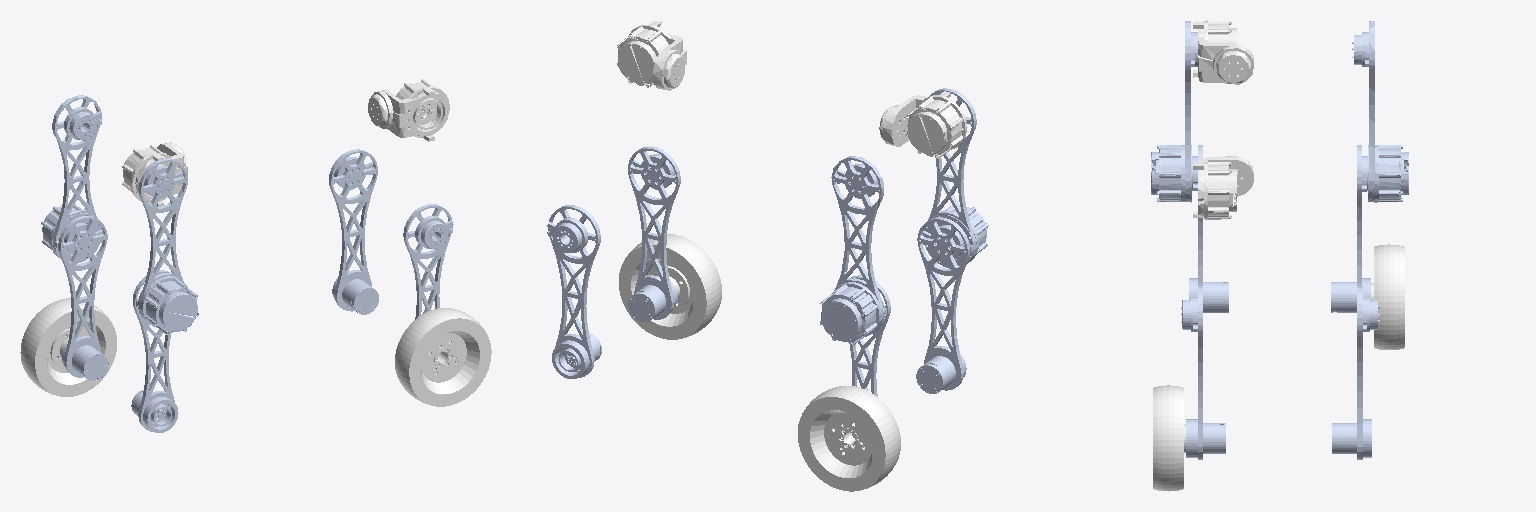
robot.urdf — wheeldog.SLDASM:
<?xml version="1.0" encoding="utf-8"?>
<!-- Inertial parameters updated from /home/hi/liu/lunzu/轮足.txt (measured SW mass props). Joint effort/velocity zeros fixed. -->
<!-- This URDF was automatically created by SolidWorks to URDF Exporter! Originally created by Stephen Brawner (brawner@gmail.com) 
     Commit Version: 1.6.0-4-g7f85cfe  Build Version: 1.6.7995.38578
     For more information, please see http://wiki.ros.org/sw_urdf_exporter -->
<robot
  name="wheeldog.SLDASM">
  <link
    name="base_link">
    <inertial>
      <origin
        xyz="-0.0007406 0.00069345 -0.04093857"
        rpy="0 0 0" />
      <mass
        value="10.08623562" />
      <inertia
        ixx="0.07619376"
        ixy="3.251e-05"
        ixz="-0.00022444"
        iyy="0.29274165"
        iyz="-0.00014066"
        izz="0.34145352" />
    </inertial>
    <visual>
      <origin
        xyz="0 0 0"
        rpy="0 0 0" />
      <geometry>
        <mesh
          filename="package://wheeldog.SLDASM/meshes/base_link.STL" />
      </geometry>
      <material
        name="">
        <color
          rgba="0.752941176470588 0.752941176470588 0.752941176470588 1" />
      </material>
    </visual>
    <collision>
      <origin
        xyz="0 0 0"
        rpy="0 0 0" />
      <geometry>
        <mesh
          filename="package://wheeldog.SLDASM/meshes/base_link.STL" />
      </geometry>
    </collision>
  </link>
  <link
    name="FL_H1_L">
    <inertial>
      <origin
        xyz="0.03618681 0.02789884 2.624e-05"
        rpy="0 0 0" />
      <mass
        value="1.65955" />
      <inertia
        ixx="0.00121543"
        ixy="-0.000496"
        ixz="-8.1e-07"
        iyy="0.00216424"
        iyz="9.7e-07"
        izz="0.00238836" />
    </inertial>
    <visual>
      <origin
        xyz="0 0 0"
        rpy="0 0 0" />
      <geometry>
        <mesh
          filename="package://wheeldog.SLDASM/meshes/FL_H1_L.STL" />
      </geometry>
      <material
        name="">
        <color
          rgba="1 1 1 1" />
      </material>
    </visual>
    <collision>
      <origin
        xyz="0 0 0"
        rpy="0 0 0" />
      <geometry>
        <mesh
          filename="package://wheeldog.SLDASM/meshes/FL_H1_L.STL" />
      </geometry>
    </collision>
  </link>
  <joint
    name="FL_H1_L_j1"
    type="revolute">
    <origin
      xyz="0.250942211638264 0.0850004065068703 -0.0349995948141676"
      rpy="0 0 0" />
    <parent
      link="base_link" />
    <child
      link="FL_H1_L" />
    <axis
      xyz="1 0 0" />
    <limit
      lower="-0.5236"
      upper="0.5236"
      effort="60"
      velocity="20" />
  </joint>
  <link
    name="FL_H2_L">
    <inertial>
      <origin
        xyz="0.0001072 0.01365002 -0.19127837"
        rpy="0 0 0" />
      <mass
        value="1.58656284" />
      <inertia
        ixx="0.01711356"
        ixy="4.75e-06"
        ixz="-6.093e-05"
        iyy="0.01693647"
        iyz="0.00258413"
        izz="0.00119761" />
    </inertial>
    <visual>
      <origin
        xyz="0 0 0"
        rpy="0 0 0" />
      <geometry>
        <mesh
          filename="package://wheeldog.SLDASM/meshes/FL_H2_L.STL" />
      </geometry>
      <material
        name="">
        <color
          rgba="0.866666666666667 0.909803921568627 1 1" />
      </material>
    </visual>
    <collision>
      <origin
        xyz="0 0 0"
        rpy="0 0 0" />
      <geometry>
        <mesh
          filename="package://wheeldog.SLDASM/meshes/FL_H2_L.STL" />
      </geometry>
    </collision>
  </link>
  <joint
    name="FL_H2_L_j2"
    type="revolute">
    <origin
      xyz="0.0530000000000002 0.0887499999999999 0"
      rpy="0 0 0" />
    <parent
      link="FL_H1_L" />
    <child
      link="FL_H2_L" />
    <axis
      xyz="0 1 0" />
    <limit
      lower="-0.7854"
      upper="0.7854"
      effort="60"
      velocity="20" />
  </joint>
  <link
    name="FL_K_L">
    <inertial>
      <origin
        xyz="0.00034449 0.00755602 -0.13356443"
        rpy="0 0 0" />
      <mass
        value="0.79338703" />
      <inertia
        ixx="0.01102442"
        ixy="-1.76e-06"
        ixz="-3.65e-05"
        iyy="0.01112229"
        iyz="-0.0006074"
        izz="0.00053818" />
    </inertial>
    <visual>
      <origin
        xyz="0 0 0"
        rpy="0 0 0" />
      <geometry>
        <mesh
          filename="package://wheeldog.SLDASM/meshes/FL_K_L.STL" />
      </geometry>
      <material
        name="">
        <color
          rgba="0.866666666666667 0.909803921568627 1 1" />
      </material>
    </visual>
    <collision>
      <origin
        xyz="0 0 0"
        rpy="0 0 0" />
      <geometry>
        <mesh
          filename="package://wheeldog.SLDASM/meshes/FL_K_L.STL" />
      </geometry>
    </collision>
  </link>
  <joint
    name="FL_K_L_j3"
    type="revolute">
    <origin
      xyz="0 -0.0329999999999998 -0.25"
      rpy="0 0 0" />
    <parent
      link="FL_H2_L" />
    <child
      link="FL_K_L" />
    <axis
      xyz="0 -1 0" />
    <limit
      lower="-2.0944"
      upper="2.0944"
      effort="60"
      velocity="20" />
  </joint>
  <link
    name="FL_W_L">
    <inertial>
      <origin
        xyz="0 -0.00390569 0"
        rpy="0 0 0" />
      <mass
        value="0.65012417" />
      <inertia
        ixx="0.00134138"
        ixy="0"
        ixz="0"
        iyy="0.00242814"
        iyz="0"
        izz="0.00134138" />
    </inertial>
    <visual>
      <origin
        xyz="0 0 0"
        rpy="0 0 0" />
      <geometry>
        <mesh
          filename="package://wheeldog.SLDASM/meshes/FL_W_L.STL" />
      </geometry>
      <material
        name="">
        <color
          rgba="1 1 1 1" />
      </material>
    </visual>
    <collision>
      <origin
        xyz="0 0 0"
        rpy="0 0 0" />
      <geometry>
        <mesh
          filename="package://wheeldog.SLDASM/meshes/FL_W_L.STL" />
      </geometry>
    </collision>
  </link>
  <joint
    name="FL_W_L_j4"
    type="continuous">
    <origin
      xyz="0 0.062 -0.25"
      rpy="0 0 0" />
    <parent
      link="FL_K_L" />
    <child
      link="FL_W_L" />
    <axis
      xyz="0 -1 0" />
    <limit effort="14" velocity="33" />
  </joint>
  <link
    name="FR_H1_L">
    <inertial>
      <origin
        xyz="0.03612386 -0.02789884 2.621e-05"
        rpy="0 0 0" />
      <mass
        value="1.65955" />
      <inertia
        ixx="0.00121543"
        ixy="0.00049646"
        ixz="-6.5e-07"
        iyy="0.00216072"
        iyz="-9.7e-07"
        izz="0.00238484" />
    </inertial>
    <visual>
      <origin
        xyz="0 0 0"
        rpy="0 0 0" />
      <geometry>
        <mesh
          filename="package://wheeldog.SLDASM/meshes/FR_H1_L.STL" />
      </geometry>
      <material
        name="">
        <color
          rgba="1 1 1 1" />
      </material>
    </visual>
    <collision>
      <origin
        xyz="0 0 0"
        rpy="0 0 0" />
      <geometry>
        <mesh
          filename="package://wheeldog.SLDASM/meshes/FR_H1_L.STL" />
      </geometry>
    </collision>
  </link>
  <joint
    name="FR_H1_L_j1"
    type="revolute">
    <origin
      xyz="0.250942211638264 -0.0849995934931297 -0.034999594814168"
      rpy="0 0 0" />
    <parent
      link="base_link" />
    <child
      link="FR_H1_L" />
    <axis
      xyz="1 0 0" />
    <limit
      lower="-0.5236"
      upper="0.5236"
      effort="60"
      velocity="20" />
  </joint>
  <link
    name="FR_H2_L">
    <inertial>
      <origin
        xyz="-0.0002839 -0.01365002 -0.19123181"
        rpy="0 0 0" />
      <mass
        value="1.58656284" />
      <inertia
        ixx="0.01710472"
        ixy="8.99e-06"
        ixz="3.927e-05"
        iyy="0.01692768"
        iyz="-0.00258276"
        izz="0.00119766" />
    </inertial>
    <visual>
      <origin
        xyz="0 0 0"
        rpy="0 0 0" />
      <geometry>
        <mesh
          filename="package://wheeldog.SLDASM/meshes/FR_H2_L.STL" />
      </geometry>
      <material
        name="">
        <color
          rgba="0.866666666666667 0.909803921568627 1 1" />
      </material>
    </visual>
    <collision>
      <origin
        xyz="0 0 0"
        rpy="0 0 0" />
      <geometry>
        <mesh
          filename="package://wheeldog.SLDASM/meshes/FR_H2_L.STL" />
      </geometry>
    </collision>
  </link>
  <joint
    name="FR_H2_L_j2"
    type="revolute">
    <origin
      xyz="0.053 -0.08875 0"
      rpy="0 0 0" />
    <parent
      link="FR_H1_L" />
    <child
      link="FR_H2_L" />
    <axis
      xyz="0 -1 0" />
    <limit
      lower="-0.7854"
      upper="0.7854"
      effort="60"
      velocity="20" />
  </joint>
  <link
    name="FR_K_L">
    <inertial>
      <origin
        xyz="0.00034455 -0.00936192 -0.13356438"
        rpy="0 0 0" />
      <mass
        value="0.79338703" />
      <inertia
        ixx="0.0109974"
        ixy="1.27e-06"
        ixz="-3.643e-05"
        iyy="0.01112229"
        iyz="0.00044057"
        izz="0.0005117" />
    </inertial>
    <visual>
      <origin
        xyz="0 0 0"
        rpy="0 0 0" />
      <geometry>
        <mesh
          filename="package://wheeldog.SLDASM/meshes/FR_K_L.STL" />
      </geometry>
      <material
        name="">
        <color
          rgba="0.866666666666667 0.909803921568627 1 1" />
      </material>
    </visual>
    <collision>
      <origin
        xyz="0 0 0"
        rpy="0 0 0" />
      <geometry>
        <mesh
          filename="package://wheeldog.SLDASM/meshes/FR_K_L.STL" />
      </geometry>
    </collision>
  </link>
  <joint
    name="FR_K_L_j3"
    type="revolute">
    <origin
      xyz="0 0.0329999999999995 -0.25"
      rpy="0 0 0" />
    <parent
      link="FR_H2_L" />
    <child
      link="FR_K_L" />
    <axis
      xyz="0 1 0" />
    <limit
      lower="-2.0944"
      upper="2.0944"
      effort="60"
      velocity="20" />
  </joint>
  <link
    name="FR_W_L">
    <inertial>
      <origin
        xyz="0 0.00390569 0"
        rpy="0 0 0" />
      <mass
        value="0.65012417" />
      <inertia
        ixx="0.00134138"
        ixy="0"
        ixz="0"
        iyy="0.00242814"
        iyz="0"
        izz="0.00134138" />
    </inertial>
    <visual>
      <origin
        xyz="0 0 0"
        rpy="0 0 0" />
      <geometry>
        <mesh
          filename="package://wheeldog.SLDASM/meshes/FR_W_L.STL" />
      </geometry>
      <material
        name="">
        <color
          rgba="1 1 1 1" />
      </material>
    </visual>
    <collision>
      <origin
        xyz="0 0 0"
        rpy="0 0 0" />
      <geometry>
        <mesh
          filename="package://wheeldog.SLDASM/meshes/FR_W_L.STL" />
      </geometry>
    </collision>
  </link>
  <joint
    name="FR_W_L_j4"
    type="continuous">
    <origin
      xyz="0 -0.0659999999999999 -0.25"
      rpy="0 0 0" />
    <parent
      link="FR_K_L" />
    <child
      link="FR_W_L" />
    <axis
      xyz="0 1 0" />
    <limit effort="14" velocity="33" />
  </joint>
  <link
    name="RL_H1_L">
    <inertial>
      <origin
        xyz="-0.03612386 0.02789884 2.621e-05"
        rpy="0 0 0" />
      <mass
        value="1.65955" />
      <inertia
        ixx="0.00121543"
        ixy="0.00049646"
        ixz="6.5e-07"
        iyy="0.00216072"
        iyz="9.7e-07"
        izz="0.00238484" />
    </inertial>
    <visual>
      <origin
        xyz="0 0 0"
        rpy="0 0 0" />
      <geometry>
        <mesh
          filename="package://wheeldog.SLDASM/meshes/RL_H1_L.STL" />
      </geometry>
      <material
        name="">
        <color
          rgba="1 1 1 1" />
      </material>
    </visual>
    <collision>
      <origin
        xyz="0 0 0"
        rpy="0 0 0" />
      <geometry>
        <mesh
          filename="package://wheeldog.SLDASM/meshes/RL_H1_L.STL" />
      </geometry>
    </collision>
  </link>
  <joint
    name="RL_H1_L_j1"
    type="revolute">
    <origin
      xyz="-0.253057788361737 0.0850004065068702 -0.0349995948141677"
      rpy="0 0 0" />
    <parent
      link="base_link" />
    <child
      link="RL_H1_L" />
    <axis
      xyz="-1 0 0" />
    <limit
      lower="-0.5236"
      upper="0.5236"
      effort="60"
      velocity="20" />
  </joint>
  <link
    name="RL_H2_L">
    <inertial>
      <origin
        xyz="0.000146 0.01365002 -0.19123181"
        rpy="0 0 0" />
      <mass
        value="1.58656284" />
      <inertia
        ixx="0.01710472"
        ixy="2.5e-06"
        ixz="-5.213e-05"
        iyy="0.01692778"
        iyz="0.00258276"
        izz="0.00119776" />
    </inertial>
    <visual>
      <origin
        xyz="0 0 0"
        rpy="0 0 0" />
      <geometry>
        <mesh
          filename="package://wheeldog.SLDASM/meshes/RL_H2_L.STL" />
      </geometry>
      <material
        name="">
        <color
          rgba="0.866666666666667 0.909803921568627 1 1" />
      </material>
    </visual>
    <collision>
      <origin
        xyz="0 0 0"
        rpy="0 0 0" />
      <geometry>
        <mesh
          filename="package://wheeldog.SLDASM/meshes/RL_H2_L.STL" />
      </geometry>
    </collision>
  </link>
  <joint
    name="RL_H2_L_j2"
    type="revolute">
    <origin
      xyz="-0.053 0.0877500000000002 0"
      rpy="0 0 0" />
    <parent
      link="RL_H1_L" />
    <child
      link="RL_H2_L" />
    <axis
      xyz="0 1 0" />
    <limit
      lower="-0.7854"
      upper="0.7854"
      effort="60"
      velocity="20" />
  </joint>
  <link
    name="RL_K_L">
    <inertial>
      <origin
        xyz="0.00034383 0.00755602 -0.13358517"
        rpy="0 0 0" />
      <mass
        value="0.79338703" />
      <inertia
        ixx="0.01101993"
        ixy="-1.76e-06"
        ixz="-3.594e-05"
        iyy="0.01111789"
        iyz="-0.00060729"
        izz="0.00053827" />
    </inertial>
    <visual>
      <origin
        xyz="0 0 0"
        rpy="0 0 0" />
      <geometry>
        <mesh
          filename="package://wheeldog.SLDASM/meshes/RL_K_L.STL" />
      </geometry>
      <material
        name="">
        <color
          rgba="0.866666666666667 0.909803921568627 1 1" />
      </material>
    </visual>
    <collision>
      <origin
        xyz="0 0 0"
        rpy="0 0 0" />
      <geometry>
        <mesh
          filename="package://wheeldog.SLDASM/meshes/RL_K_L.STL" />
      </geometry>
    </collision>
  </link>
  <joint
    name="RL_K_L_j3"
    type="revolute">
    <origin
      xyz="0 -0.0330000000000001 -0.25"
      rpy="0 0 0" />
    <parent
      link="RL_H2_L" />
    <child
      link="RL_K_L" />
    <axis
      xyz="0 -1 0" />
    <limit
      lower="-2.0944"
      upper="2.0944"
      effort="60"
      velocity="20" />
  </joint>
  <link
    name="RL_W_L">
    <inertial>
      <origin
        xyz="0 -0.00390569 0"
        rpy="0 0 0" />
      <mass
        value="0.65012417" />
      <inertia
        ixx="0.00134138"
        ixy="0"
        ixz="0"
        iyy="0.00242814"
        iyz="0"
        izz="0.00134138" />
    </inertial>
    <visual>
      <origin
        xyz="0 0 0"
        rpy="0 0 0" />
      <geometry>
        <mesh
          filename="package://wheeldog.SLDASM/meshes/RL_W_L.STL" />
      </geometry>
      <material
        name="">
        <color
          rgba="1 1 1 1" />
      </material>
    </visual>
    <collision>
      <origin
        xyz="0 0 0"
        rpy="0 0 0" />
      <geometry>
        <mesh
          filename="package://wheeldog.SLDASM/meshes/RL_W_L.STL" />
      </geometry>
    </collision>
  </link>
  <joint
    name="RL_W_L_j4"
    type="continuous">
    <origin
      xyz="0 0.0620000000000001 -0.25"
      rpy="0 0 0" />
    <parent
      link="RL_K_L" />
    <child
      link="RL_W_L" />
    <axis
      xyz="0 -1 0" />
    <limit effort="14" velocity="33" />
  </joint>
  <link
    name="RR_H1_L">
    <inertial>
      <origin
        xyz="-0.03618681 -0.02789884 2.624e-05"
        rpy="0 0 0" />
      <mass
        value="1.65955" />
      <inertia
        ixx="0.00121543"
        ixy="-0.000496"
        ixz="8.1e-07"
        iyy="0.00216424"
        iyz="-9.7e-07"
        izz="0.00238836" />
    </inertial>
    <visual>
      <origin
        xyz="0 0 0"
        rpy="0 0 0" />
      <geometry>
        <mesh
          filename="package://wheeldog.SLDASM/meshes/RR_H1_L.STL" />
      </geometry>
      <material
        name="">
        <color
          rgba="1 1 1 1" />
      </material>
    </visual>
    <collision>
      <origin
        xyz="0 0 0"
        rpy="0 0 0" />
      <geometry>
        <mesh
          filename="package://wheeldog.SLDASM/meshes/RR_H1_L.STL" />
      </geometry>
    </collision>
  </link>
  <joint
    name="RR_H1_L_j1"
    type="revolute">
    <origin
      xyz="-0.253057788361736 -0.0849995934931296 -0.0349995948141678"
      rpy="0 0 0" />
    <parent
      link="base_link" />
    <child
      link="RR_H1_L" />
    <axis
      xyz="-1 0 0" />
    <limit
      lower="-0.5236"
      upper="0.5236"
      effort="60"
      velocity="20" />
  </joint>
  <link
    name="RR_H2_L">
    <inertial>
      <origin
        xyz="9.944e-05 -0.01365002 -0.19127837"
        rpy="0 0 0" />
      <mass
        value="1.58656284" />
      <inertia
        ixx="0.01711356"
        ixy="-3.88e-06"
        ixz="-5.647e-05"
        iyy="0.01693647"
        iyz="-0.00258413"
        izz="0.00119761" />
    </inertial>
    <visual>
      <origin
        xyz="0 0 0"
        rpy="0 0 0" />
      <geometry>
        <mesh
          filename="package://wheeldog.SLDASM/meshes/RR_H2_L.STL" />
      </geometry>
      <material
        name="">
        <color
          rgba="0.866666666666667 0.909803921568627 1 1" />
      </material>
    </visual>
    <collision>
      <origin
        xyz="0 0 0"
        rpy="0 0 0" />
      <geometry>
        <mesh
          filename="package://wheeldog.SLDASM/meshes/RR_H2_L.STL" />
      </geometry>
    </collision>
  </link>
  <joint
    name="RR_H2_L_j2"
    type="revolute">
    <origin
      xyz="-0.053 -0.08875 0"
      rpy="0 0 0" />
    <parent
      link="RR_H1_L" />
    <child
      link="RR_H2_L" />
    <axis
      xyz="0 -1 0" />
    <limit
      lower="-0.7854"
      upper="0.7854"
      effort="60"
      velocity="20" />
  </joint>
  <link
    name="RR_K_L">
    <inertial>
      <origin
        xyz="0.00034455 -0.00755602 -0.13356437"
        rpy="0 0 0" />
      <mass
        value="0.79338703" />
      <inertia
        ixx="0.01102412"
        ixy="1.76e-06"
        ixz="-3.652e-05"
        iyy="0.01112228"
        iyz="0.0006074"
        izz="0.00053846" />
    </inertial>
    <visual>
      <origin
        xyz="0 0 0"
        rpy="0 0 0" />
      <geometry>
        <mesh
          filename="package://wheeldog.SLDASM/meshes/RR_K_L.STL" />
      </geometry>
      <material
        name="">
        <color
          rgba="0.866666666666667 0.909803921568627 1 1" />
      </material>
    </visual>
    <collision>
      <origin
        xyz="0 0 0"
        rpy="0 0 0" />
      <geometry>
        <mesh
          filename="package://wheeldog.SLDASM/meshes/RR_K_L.STL" />
      </geometry>
    </collision>
  </link>
  <joint
    name="RR_K_L_j3"
    type="revolute">
    <origin
      xyz="0 0.0329999999999999 -0.250000000000005"
      rpy="0 0 0" />
    <parent
      link="RR_H2_L" />
    <child
      link="RR_K_L" />
    <axis
      xyz="0 1 0" />
    <limit
      lower="-2.0944"
      upper="2.0944"
      effort="60"
      velocity="20" />
  </joint>
  <link
    name="RR_W_L">
    <inertial>
      <origin
        xyz="0 0.00390569 0"
        rpy="0 0 0" />
      <mass
        value="0.65012417" />
      <inertia
        ixx="0.00134138"
        ixy="0"
        ixz="0"
        iyy="0.00242814"
        iyz="0"
        izz="0.00134138" />
    </inertial>
    <visual>
      <origin
        xyz="0 0 0"
        rpy="0 0 0" />
      <geometry>
        <mesh
          filename="package://wheeldog.SLDASM/meshes/RR_W_L.STL" />
      </geometry>
      <material
        name="">
        <color
          rgba="1 1 1 1" />
      </material>
    </visual>
    <collision>
      <origin
        xyz="0 0 0"
        rpy="0 0 0" />
      <geometry>
        <mesh
          filename="package://wheeldog.SLDASM/meshes/RR_W_L.STL" />
      </geometry>
    </collision>
  </link>
  <joint
    name="RR_W_L_j4"
    type="continuous">
    <origin
      xyz="0 -0.062 -0.25"
      rpy="0 0 0" />
    <parent
      link="RR_K_L" />
    <child
      link="RR_W_L" />
    <axis
      xyz="0 1 0" />
    <limit effort="14" velocity="33" />
  </joint>
</robot>

--- What the picture shows (computed from the rendered views, not written in the file) ---
The picture shows the robot from 3 angles, left to right: view 1: azimuth 30°, elevation 25°; view 2: azimuth 150°, elevation 25°; view 3: azimuth 270°, elevation 25°; orthographic projection.
Robot: wheeldog.SLDASM — 17 links, 16 joints (12 revolute, 4 continuous); root link base_link; default pose: every joint at zero.
Links seen in each view (by area): view 1: FR_W_L, RR_H2_L, RL_W_L, RL_K_L, FL_K_L, RL_H2_L, FR_H1_L, RR_K_L, FR_K_L, RR_H1_L; view 2: RL_W_L, RL_H2_L, FR_W_L, RR_K_L, FR_K_L, FL_K_L, RR_H1_L, FR_H1_L, RR_H2_L, RL_K_L; view 3: RL_H2_L, FR_W_L, RR_H2_L, RL_W_L, FR_H1_L, RR_H1_L, FL_K_L, FR_K_L, RL_K_L, RR_K_L.
Boxes of the visible links, x1=… form: FR_W_L: x1=395, y1=308, x2=491, y2=406; RR_H2_L: x1=136, y1=158, x2=198, y2=334; RL_W_L: x1=20, y1=298, x2=116, y2=396; RL_K_L: x1=58, y1=216, x2=108, y2=380; FL_K_L: x1=329, y1=149, x2=378, y2=314; RL_H2_L: x1=41, y1=95, x2=101, y2=263; FR_H1_L: x1=368, y1=79, x2=449, y2=141; RR_K_L: x1=131, y1=270, x2=178, y2=432; FR_K_L: x1=403, y1=204, x2=453, y2=319; RR_H1_L: x1=122, y1=142, x2=187, y2=206; RL_W_L: x1=798, y1=386, x2=900, y2=491; RL_H2_L: x1=820, y1=156, x2=886, y2=344; FR_W_L: x1=619, y1=234, x2=721, y2=339; RR_K_L: x1=916, y1=217, x2=969, y2=393; FR_K_L: x1=628, y1=146, x2=680, y2=321; FL_K_L: x1=547, y1=205, x2=601, y2=378; RR_H1_L: x1=879, y1=91, x2=967, y2=158; FR_H1_L: x1=617, y1=21, x2=686, y2=90; RR_H2_L: x1=924, y1=88, x2=988, y2=268; RL_K_L: x1=849, y1=275, x2=890, y2=396; RL_H2_L: x1=1352, y1=21, x2=1408, y2=202; FR_W_L: x1=1153, y1=385, x2=1185, y2=491; RR_H2_L: x1=1151, y1=21, x2=1197, y2=202; RL_W_L: x1=1371, y1=244, x2=1404, y2=349; FR_H1_L: x1=1193, y1=156, x2=1253, y2=219; RR_H1_L: x1=1193, y1=20, x2=1253, y2=84; FL_K_L: x1=1332, y1=286, x2=1379, y2=459; FR_K_L: x1=1181, y1=286, x2=1225, y2=459; RL_K_L: x1=1331, y1=145, x2=1370, y2=312; RR_K_L: x1=1189, y1=145, x2=1228, y2=312.
Bounding box of the posed robot: 0.8039 × 0.471 × 0.6501 m (x, y, z).
Meshes: 17 distinct files referenced, 10 mesh visuals loaded (10 binary STL); not drawn: 7 (reference not matched to a file when rendering).
